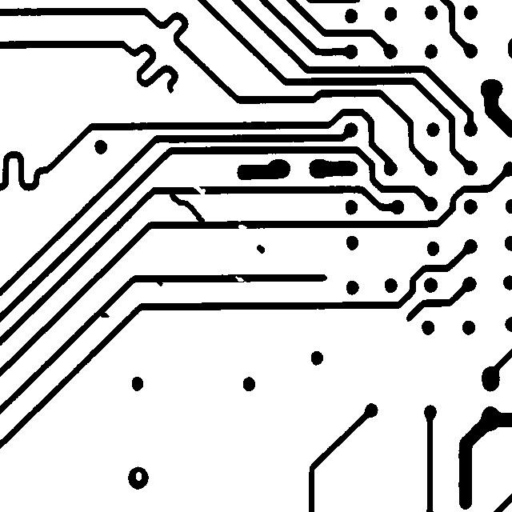copper: (249, 237, 272, 261)
mousebite: (230, 217, 254, 238), (227, 268, 251, 289)
open: (186, 177, 213, 202)
pin-hole: (128, 464, 149, 488)
short: (162, 185, 212, 230)
spur: (91, 303, 117, 325), (148, 271, 170, 294)
